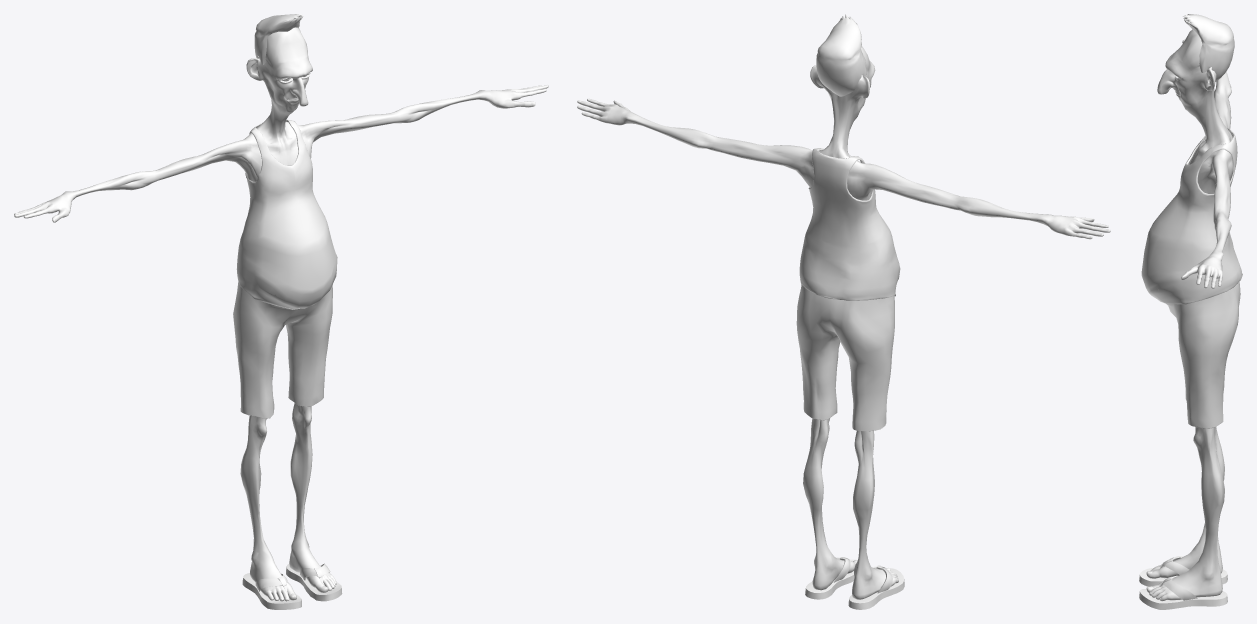
The model's file is character.glb.
3 renders of one model, left to right at view 1: azimuth 30°, elevation 25°; view 2: azimuth 150°, elevation 25°; view 3: azimuth 270°, elevation 25°, orthographic.
Visible parts, largest first — view 1: CC_Base_Body, Tank_top, Classic_Shorts, Flip-flops, Hair_M01; view 2: CC_Base_Body, Classic_Shorts, Tank_top, Hair_M01, Flip-flops; view 3: CC_Base_Body, Tank_top, Classic_Shorts, Hair_M01, Flip-flops.
Part boxes in pixels (x1,y1,x2,y2): CC_Base_Body: [14, 27, 548, 601]; Tank_top: [236, 119, 337, 309]; Classic_Shorts: [233, 279, 334, 418]; Flip-flops: [242, 563, 342, 609]; Hair_M01: [254, 14, 302, 64]; CC_Base_Body: [577, 46, 1110, 599]; Classic_Shorts: [796, 284, 894, 431]; Tank_top: [799, 148, 900, 300]; Hair_M01: [816, 14, 866, 96]; Flip-flops: [805, 557, 904, 609]; CC_Base_Body: [1146, 29, 1233, 601]; Tank_top: [1141, 128, 1242, 304]; Classic_Shorts: [1158, 282, 1240, 428]; Hair_M01: [1183, 14, 1234, 81]; Flip-flops: [1139, 556, 1227, 609].
Size of the model in its own units: 1.98 by 2.03 by 0.3295.
Materials: 16 (1 with a texture image).
